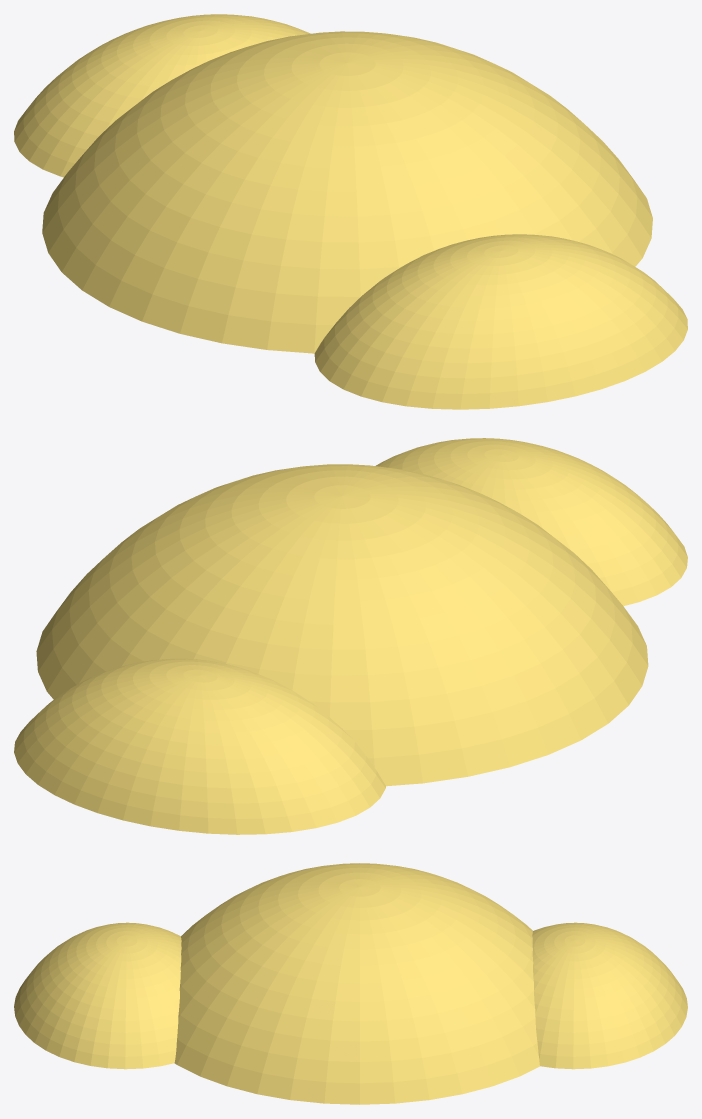
The model's file is sand3.glb.
3 renders of one model, top to bottom at view 1: azimuth 30°, elevation 25°; view 2: azimuth 150°, elevation 25°; view 3: azimuth 270°, elevation 25°, orthographic. The views are drawn at different scales.
Visible parts, largest first — view 1: Сфера.004, Сфера.003, Сфера.001; view 2: Сфера.004, Сфера.001, Сфера.003; view 3: Сфера.004, Сфера.003, Сфера.001.
Part boxes in pixels (bbox=[...]): Сфера.004: bbox=[42, 31, 652, 353]; Сфера.003: bbox=[314, 234, 687, 409]; Сфера.001: bbox=[14, 14, 310, 177]; Сфера.004: bbox=[36, 464, 648, 786]; Сфера.001: bbox=[14, 658, 385, 834]; Сфера.003: bbox=[376, 438, 687, 605]; Сфера.004: bbox=[174, 863, 539, 1104]; Сфера.003: bbox=[14, 922, 181, 1069]; Сфера.001: bbox=[532, 922, 687, 1069].
Size of the model in its own units: 10.1 by 2.96 by 14.91.
